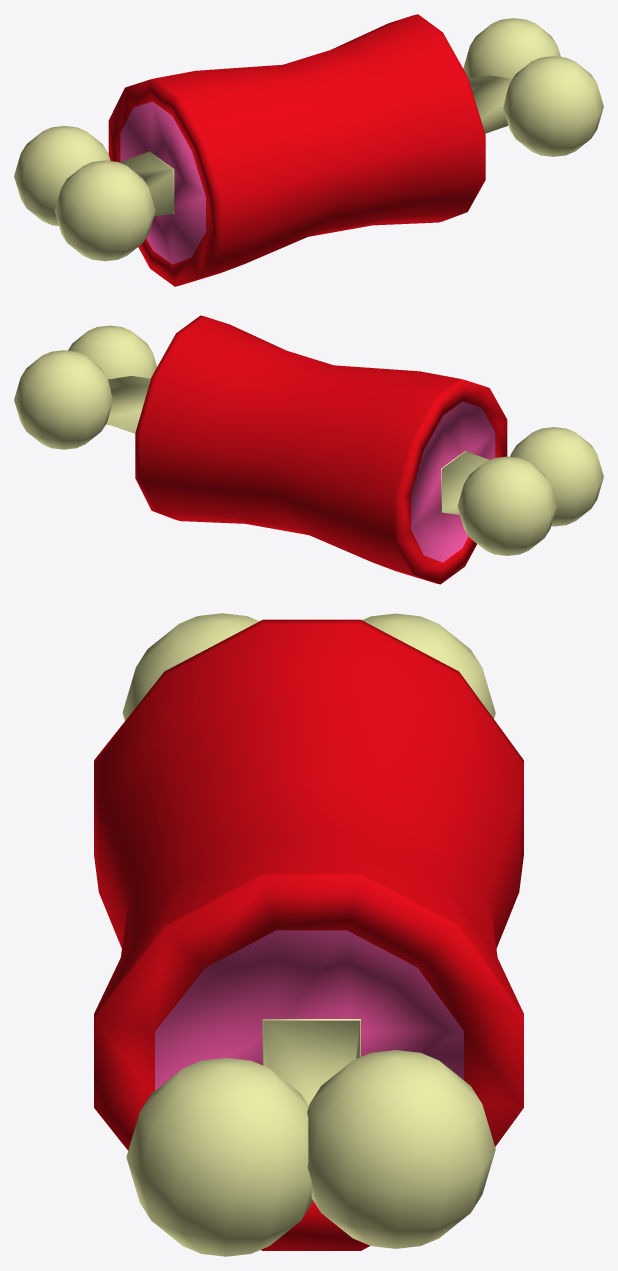
Rendered from Meat01.fbx.
3 renders of one model, top to bottom at view 1: azimuth 30°, elevation 25°; view 2: azimuth 150°, elevation 25°; view 3: azimuth 270°, elevation 25°, orthographic. The views are drawn at different scales.
Parts seen in each view (by area): view 1: Meat; view 2: Meat; view 3: Meat.
Part boxes in pixels (<box>): Meat: <box>14,14,603,286</box>; Meat: <box>14,315,603,584</box>; Meat: <box>94,613,523,1256</box>.
Bounding box in the file's own units: 8.36 × 2.92 × 2.8.
